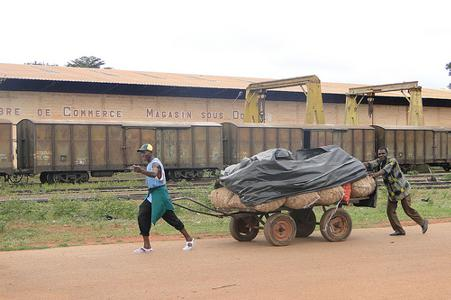person: (365, 146, 432, 240)
